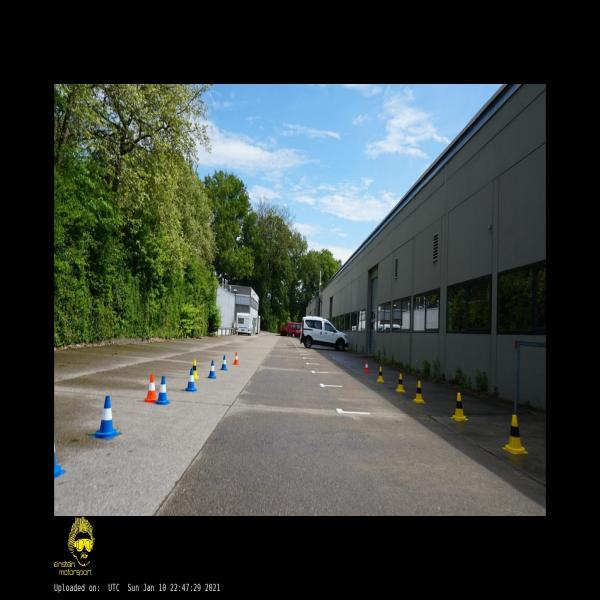blue_cone: (92, 396, 119, 439), (54, 442, 66, 480), (155, 376, 171, 404), (185, 368, 197, 392), (208, 360, 216, 379), (220, 355, 228, 370)
orange_cone: (142, 373, 158, 402), (233, 352, 239, 365), (364, 360, 370, 372)
yellow_cone: (503, 415, 528, 454), (450, 392, 468, 420), (412, 381, 426, 403), (395, 373, 406, 392), (376, 367, 385, 382), (192, 359, 198, 379)
